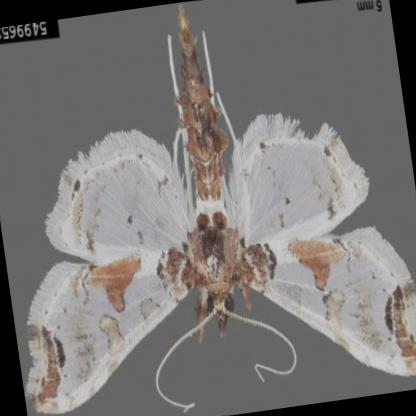leucinodes: (30, 16, 416, 416)
